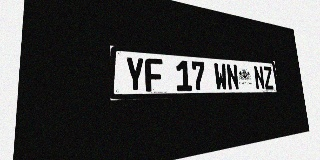1: (175, 60, 192, 91)
7: (191, 61, 206, 91)
F: (145, 58, 164, 92)
N: (226, 64, 239, 90), (253, 65, 265, 90)
W: (213, 63, 228, 90)
Y: (125, 56, 145, 92)
Z: (263, 66, 274, 89)
